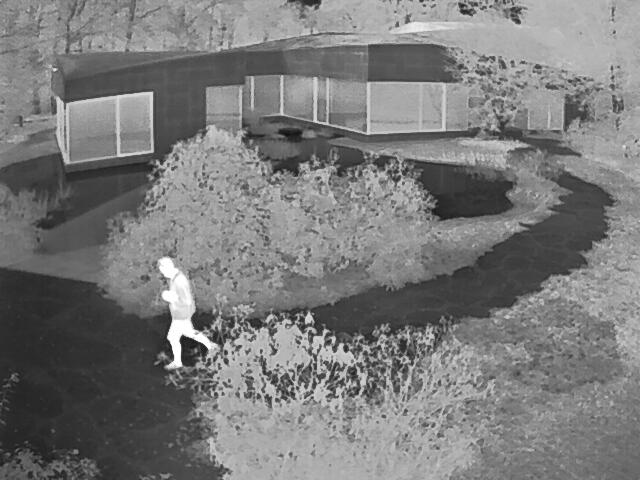person: (155, 255, 219, 369)
